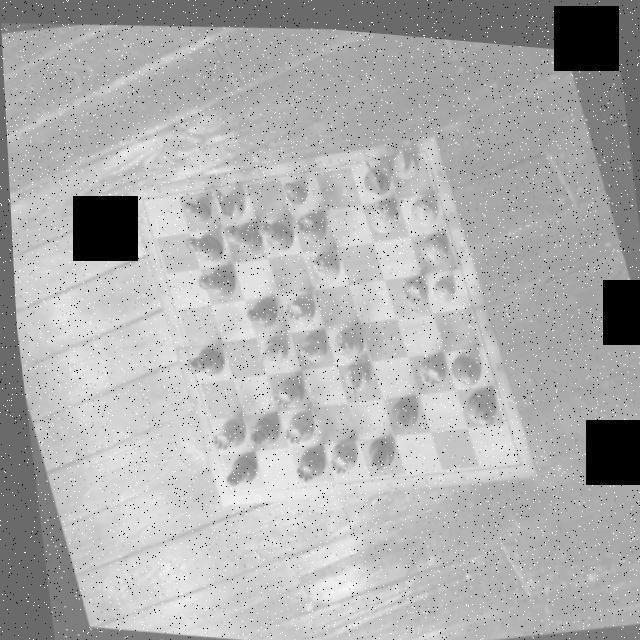chess-table-corners: (126, 186, 164, 224), (405, 129, 440, 163), (496, 434, 529, 470), (217, 476, 242, 504)
